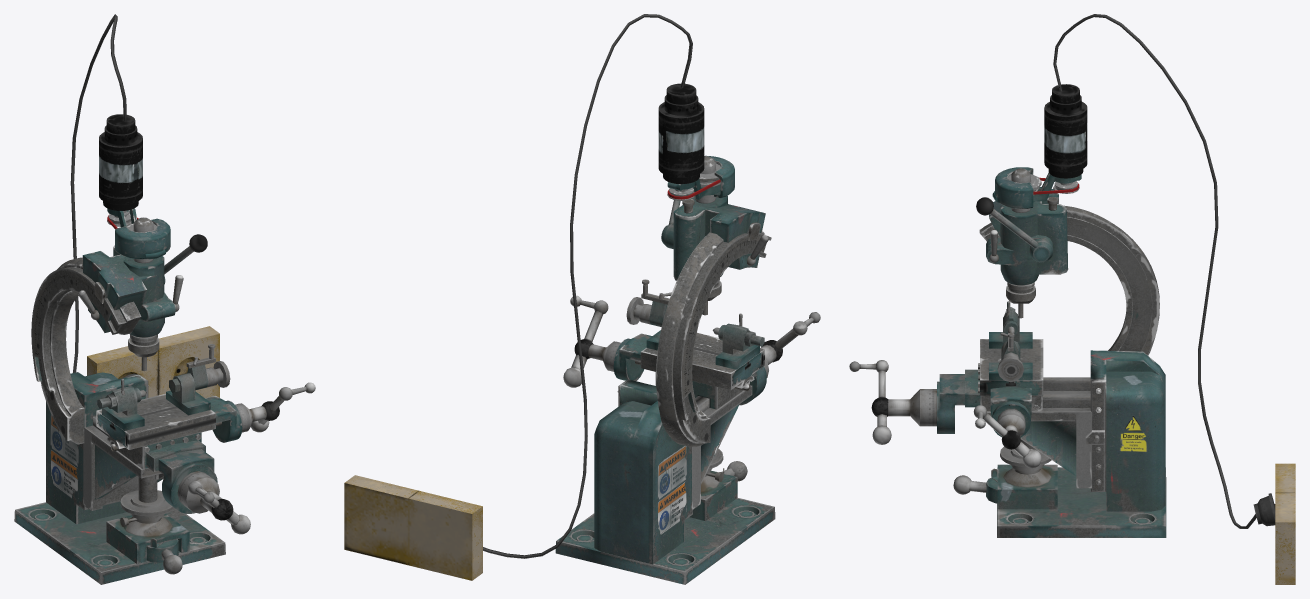
3 views of the same model, side by side, from view 1: azimuth 30°, elevation 25°; view 2: azimuth 150°, elevation 25°; view 3: azimuth 270°, elevation 25° (orthographic). The views are drawn at different scales.
Visible parts, largest first — view 1: machin3_low, machin1_low, machin2_low, machin4_low, Derzhatel; view 2: machin3_low, machin4_low, machin1_low, machin2_low; view 3: machin3_low, machin1_low, machin4_low, machin2_low.
Part boxes in pixels (x1,y1,x2,y2): machin3_low: (78,114,315,563); machin1_low: (31,14,223,574); machin2_low: (14,208,266,584); machin4_low: (46,372,306,524); Derzhatel: (128,334,159,357); machin3_low: (344,83,820,580); machin4_low: (571,300,692,564); machin1_low: (483,14,771,558); machin2_low: (555,179,813,584); machin3_low: (849,84,1295,584); machin1_low: (953,14,1256,528); machin4_low: (977,350,1275,511); machin2_low: (859,172,1275,537).
Size of the model in its own units: 219 by 396 by 322.
